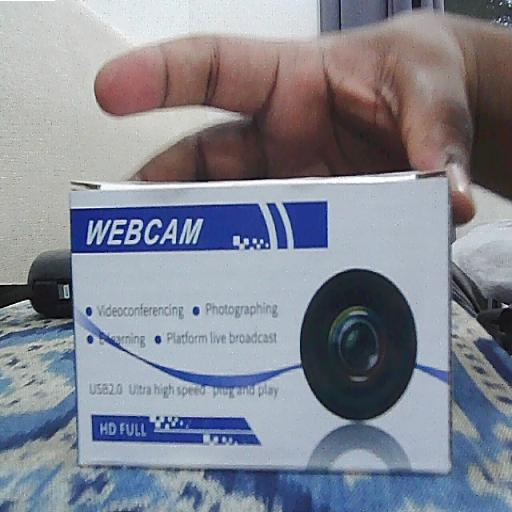webcam_box: (68, 174, 454, 476)
